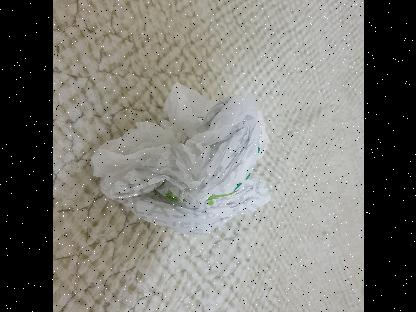Others: (86, 78, 274, 241)
